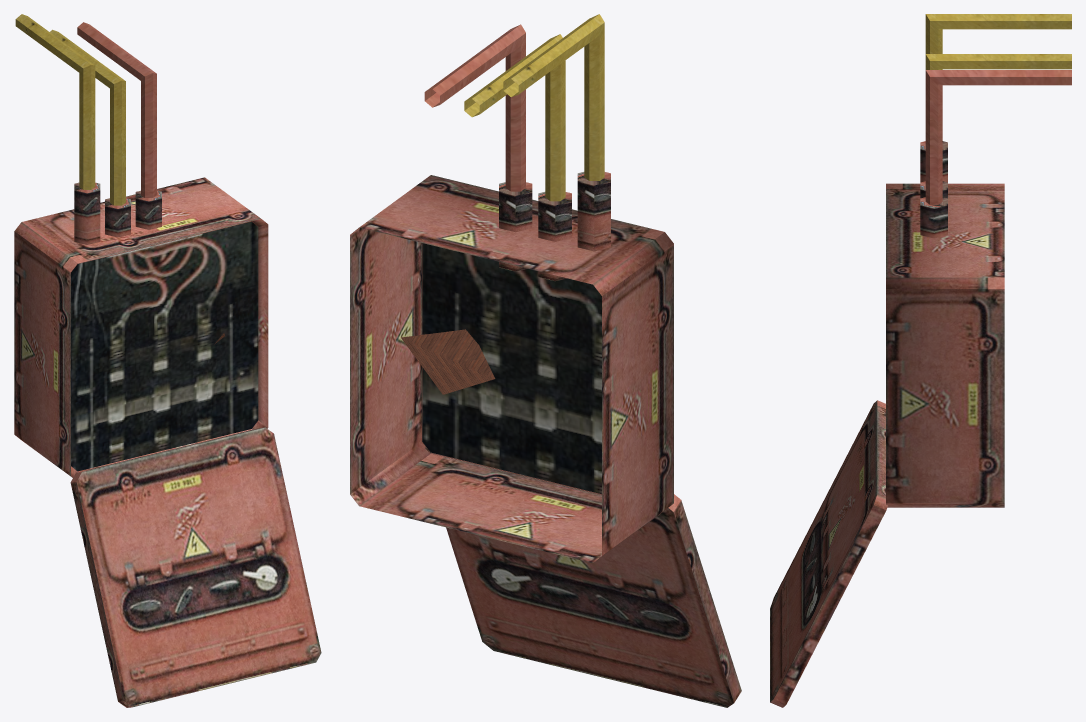
File: Prop_ElecBox_03b.FBX
3 views of the same model, side by side, from view 1: azimuth 30°, elevation 25°; view 2: azimuth 150°, elevation 25°; view 3: azimuth 270°, elevation 25° (orthographic). The views are drawn at different scales.
Parts seen in each view (by area): view 1: Prop_ElecBox_03b; view 2: Prop_ElecBox_03b; view 3: Prop_ElecBox_03b.
Boxes of the visible parts, x1=… form: Prop_ElecBox_03b: x1=14, y1=14, x2=321, y2=707; Prop_ElecBox_03b: x1=350, y1=14, x2=741, y2=707; Prop_ElecBox_03b: x1=770, y1=14, x2=1071, y2=707.
Size of the model in its own units: 0.1231 by 0.3491 by 0.1548.
